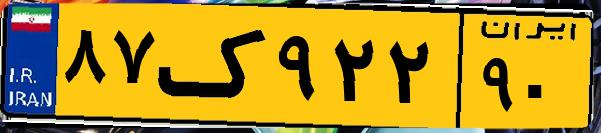0: (525, 38, 570, 115)
2: (385, 28, 445, 110), (330, 28, 385, 110)
7: (110, 28, 158, 98)
8: (57, 26, 110, 100)
9: (270, 28, 330, 110), (475, 38, 525, 113)
ک: (158, 12, 270, 120)
